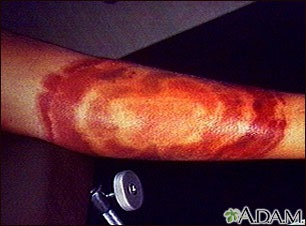Ringworm: (48, 44, 288, 162)
